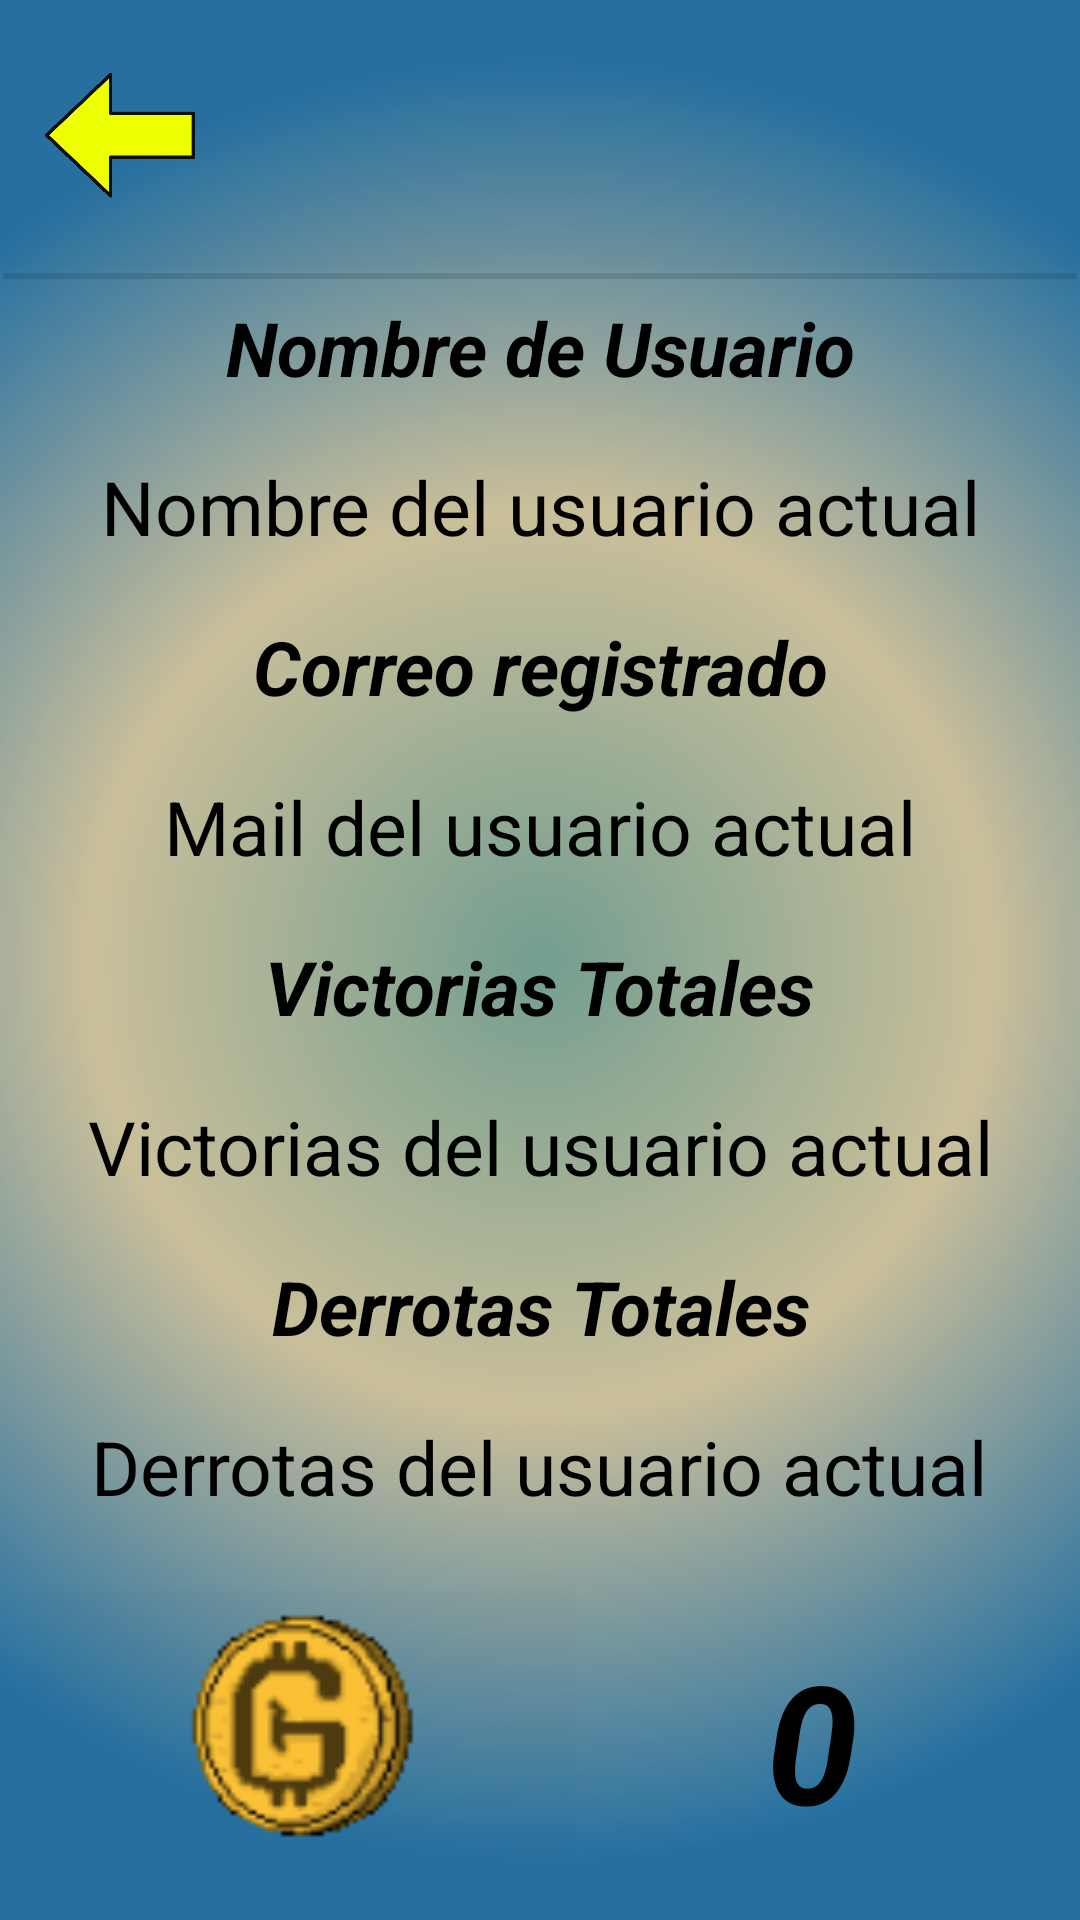

Icons on this 1080px×1920px Android screen, each with the point to tap as [x,y]:
back: [120,135]
